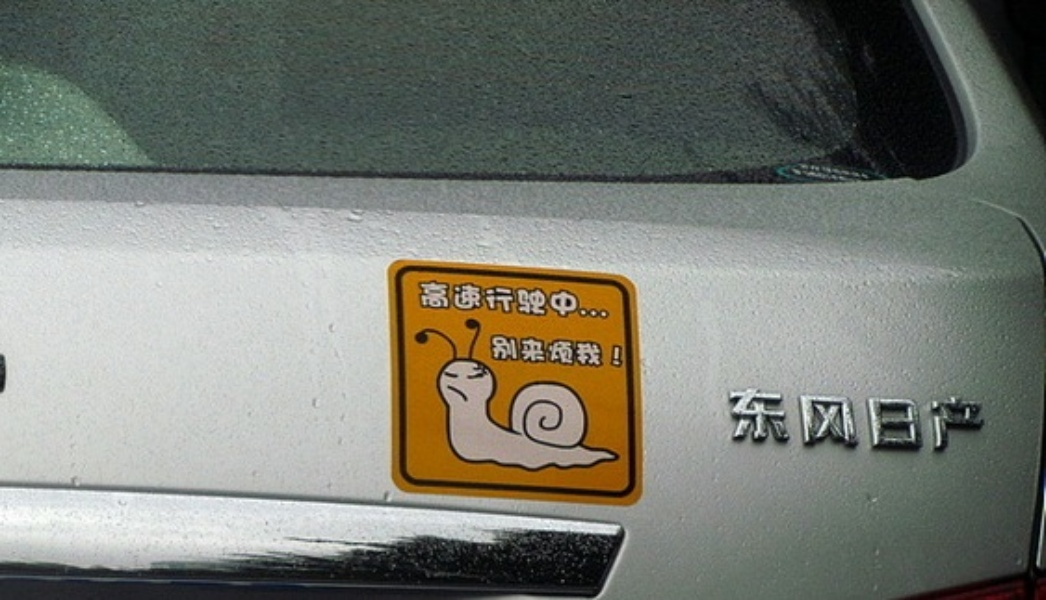text: (737, 385, 752, 456), (753, 385, 768, 456), (769, 385, 784, 456), (785, 385, 800, 456), (801, 385, 816, 456), (817, 385, 832, 456), (833, 385, 848, 456), (849, 385, 864, 456), (865, 385, 880, 456), (881, 385, 896, 456), (897, 385, 912, 456), (913, 385, 928, 456), (929, 385, 944, 456), (945, 385, 960, 456), (961, 385, 976, 456), (977, 385, 987, 456), (417, 277, 432, 324), (433, 277, 448, 324), (449, 277, 464, 324), (465, 277, 480, 324), (481, 277, 496, 324), (497, 277, 512, 324), (513, 277, 528, 324), (529, 277, 544, 324), (545, 277, 560, 324), (561, 277, 576, 324), (577, 277, 592, 324), (593, 277, 608, 324), (609, 333, 625, 370), (497, 333, 512, 370), (513, 333, 528, 370), (529, 333, 544, 370), (545, 333, 560, 370), (561, 333, 576, 370), (577, 333, 592, 370), (593, 333, 608, 370), (729, 385, 736, 456), (491, 333, 496, 370), (609, 277, 612, 324)
